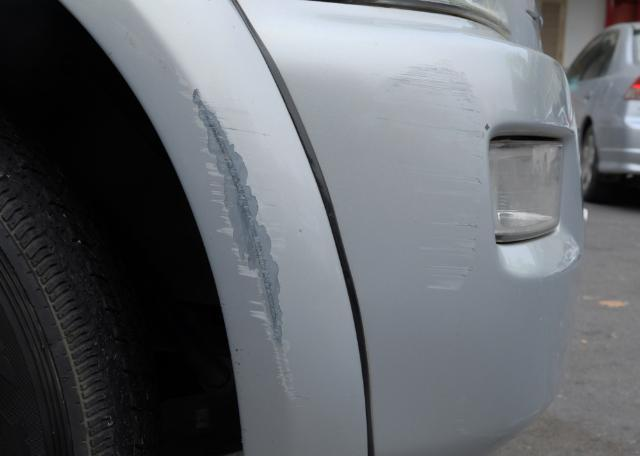scratch: (174, 79, 302, 405), (385, 57, 494, 297)
